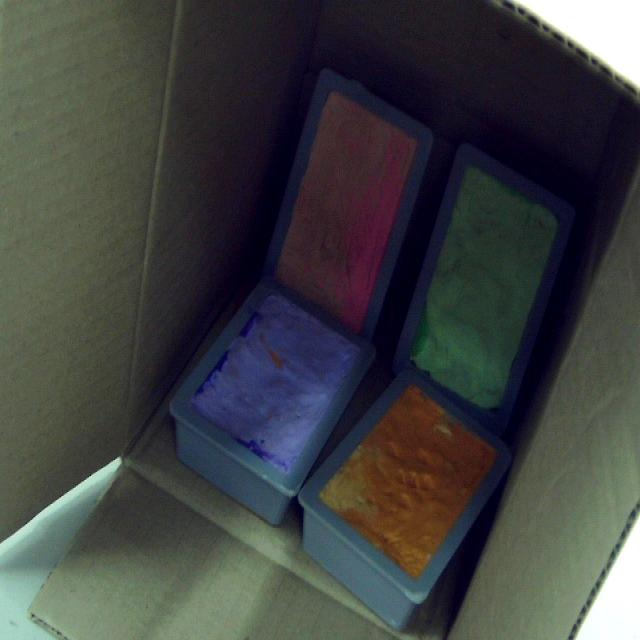block: (298, 370, 512, 632), (393, 146, 575, 436), (168, 286, 374, 524), (270, 71, 432, 340)
